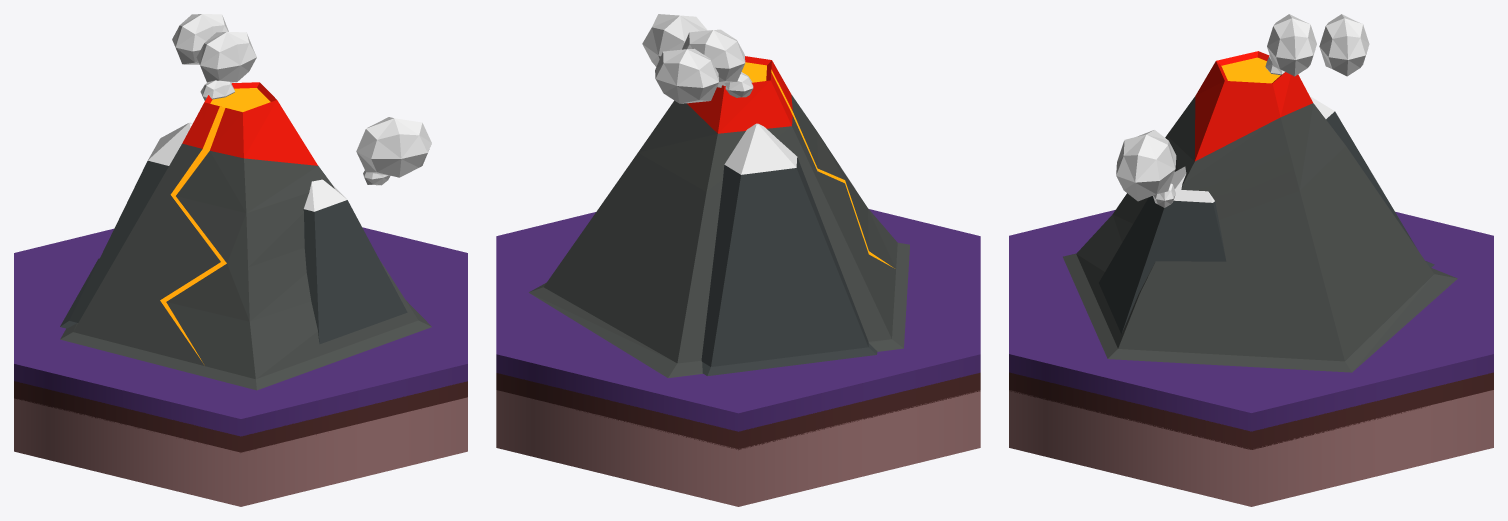
Rendered from All_Mesh.fbx.
3 views of the same model, side by side, from view 1: azimuth 30°, elevation 25°; view 2: azimuth 150°, elevation 25°; view 3: azimuth 270°, elevation 25° (orthographic). The views are drawn at different scales.
Visible parts, largest first — view 1: Ground, Volcano, Mountain; view 2: Ground, Volcano, Mountain; view 3: Ground, Volcano, Mountain.
Boxes of the visible parts, x1,y1,x2,y2 form: Ground: (14, 227, 467, 506); Volcano: (60, 82, 431, 390); Mountain: (60, 14, 431, 344); Ground: (496, 209, 980, 506); Volcano: (529, 56, 909, 378); Mountain: (642, 14, 877, 376); Ground: (1009, 210, 1493, 506); Volcano: (1063, 51, 1457, 372); Mountain: (1099, 14, 1434, 333).
Size of the model in its own units: 3867 by 2843 by 3349.
